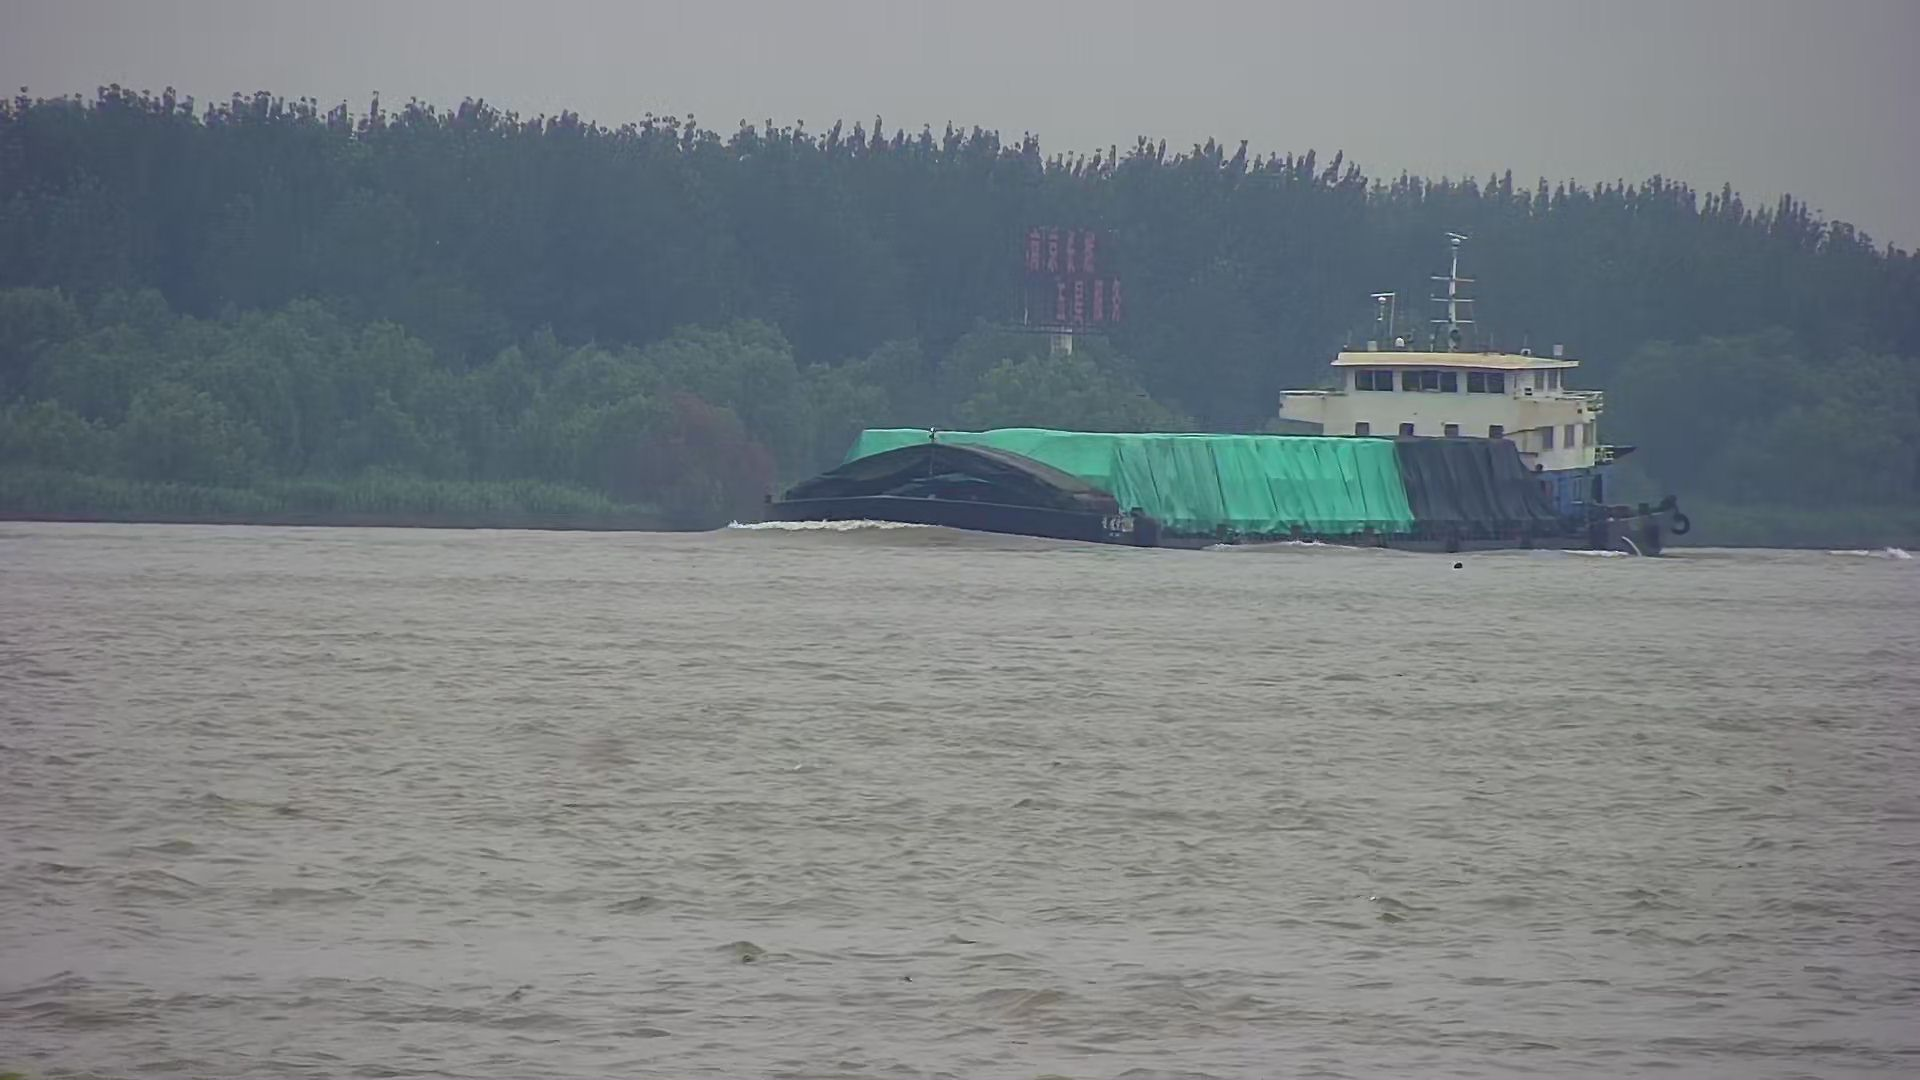ship: (740, 306, 1691, 563)
